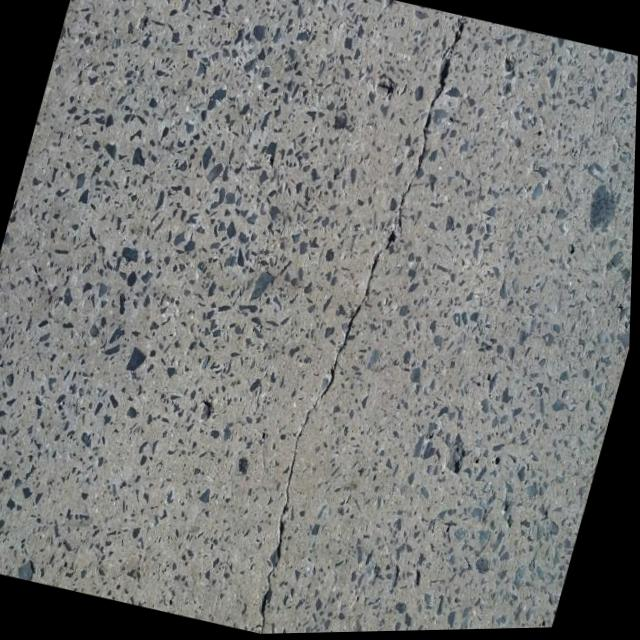Crack: (241, 4, 486, 636)
